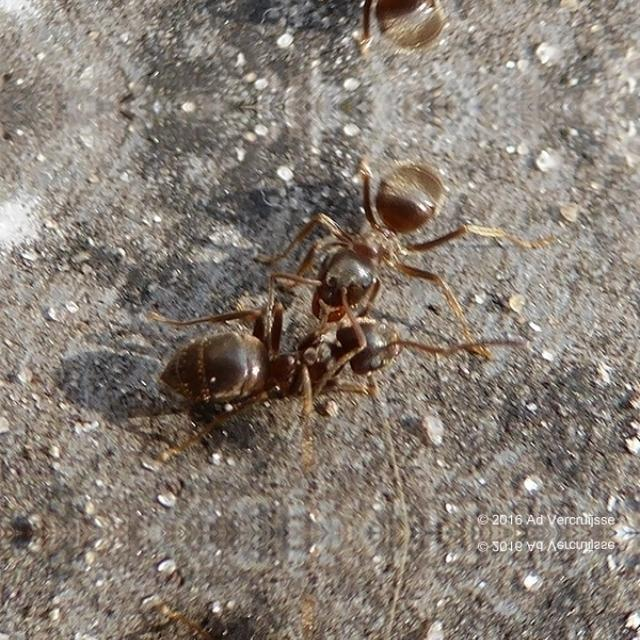Lasius: (267, 138, 483, 326), (158, 301, 430, 425), (267, 0, 483, 74)
